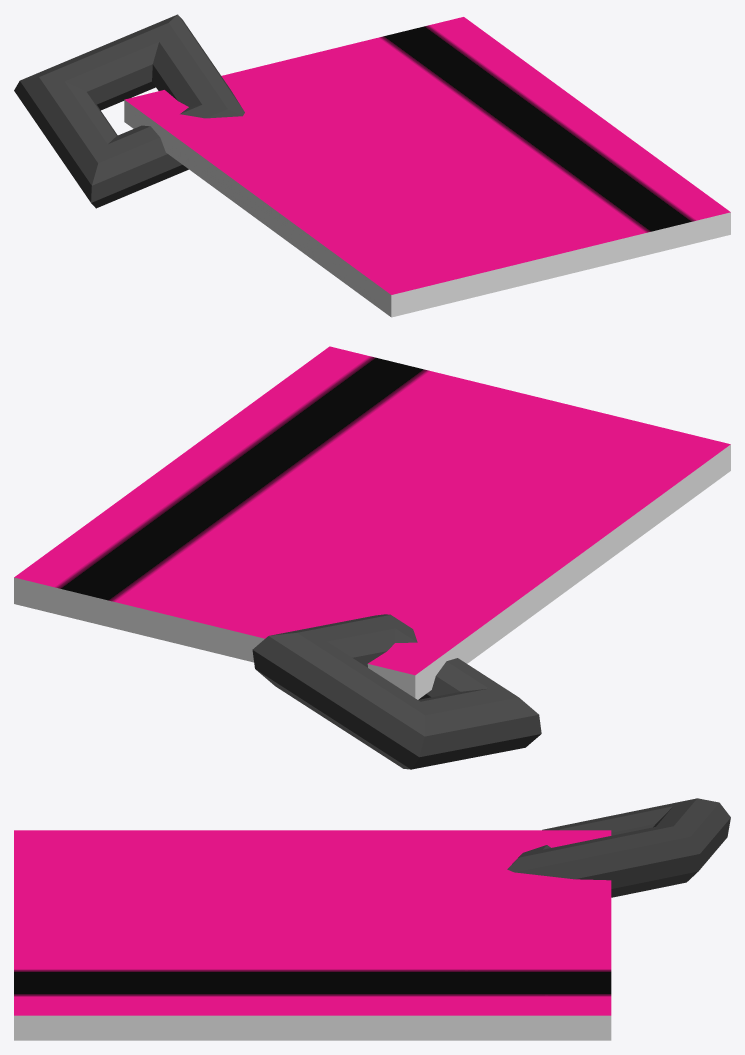
The model's file is Keycard_Pink.fbx.
3 renders of one model, top to bottom at view 1: azimuth 30°, elevation 25°; view 2: azimuth 150°, elevation 25°; view 3: azimuth 270°, elevation 25°, orthographic. The views are drawn at different scales.
Visible parts, largest first — view 1: KeyCard_Pink; view 2: KeyCard_Pink; view 3: KeyCard_Pink.
Boxes of the visible parts, <box> form: KeyCard_Pink: <box>14,14,730,317</box>; KeyCard_Pink: <box>14,346,730,769</box>; KeyCard_Pink: <box>14,798,730,1040</box>.
Bounding box in the file's own units: 2.15 × 0.5527 × 2.91.
1 material, 1 textured.
